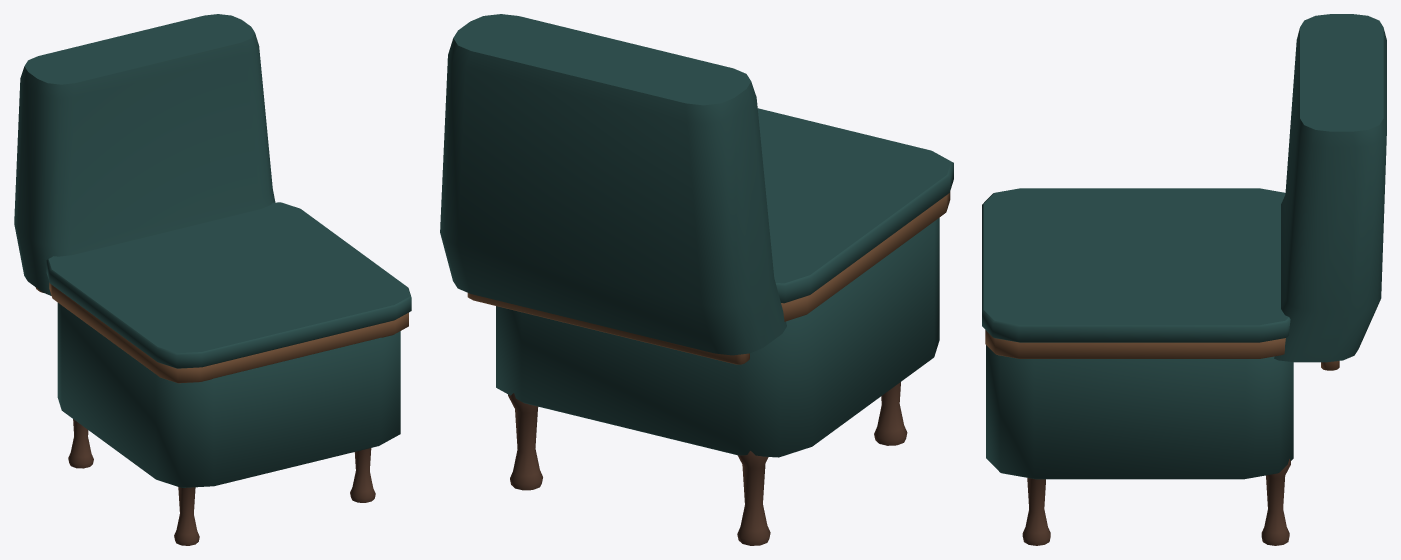
File: rpg-mansion-slipper-01.glb
3 views of the same model, side by side, from view 1: azimuth 30°, elevation 25°; view 2: azimuth 150°, elevation 25°; view 3: azimuth 270°, elevation 25° (orthographic). The views are drawn at different scales.
Visible parts, largest first — view 1: rpg-mansion-slipper-01; view 2: rpg-mansion-slipper-01; view 3: rpg-mansion-slipper-01.
Part boxes in pixels (left/top/right/bottom): rpg-mansion-slipper-01: left=14, top=14, right=411, bottom=545; rpg-mansion-slipper-01: left=440, top=14, right=953, bottom=545; rpg-mansion-slipper-01: left=982, top=14, right=1386, bottom=545.
Size of the model in its own units: 0.581 by 0.82 by 0.718.
